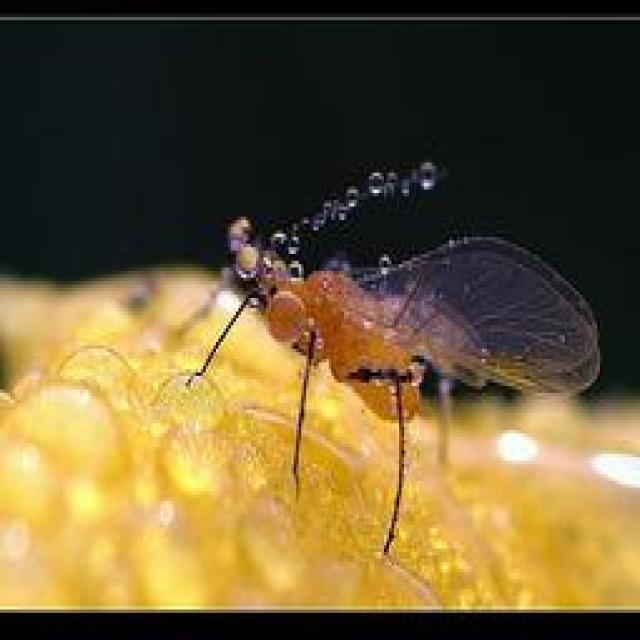Aphids: (167, 123, 603, 570)
